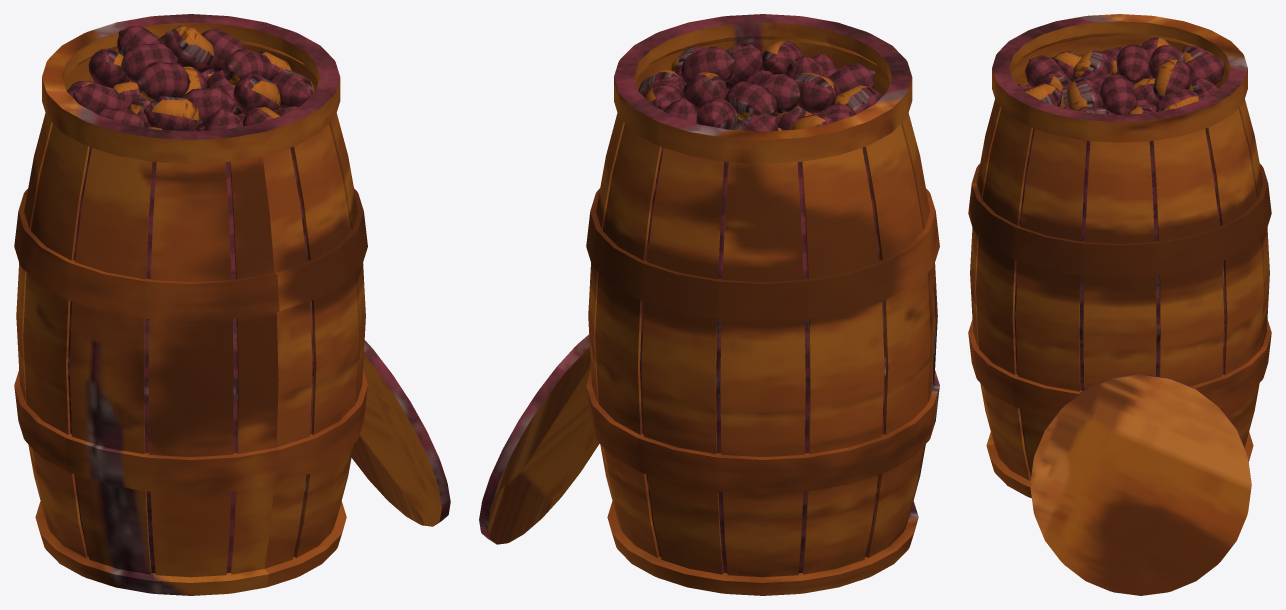
The model's file is fruit barrel_7.fbx.
3 renders of one model, left to right at view 1: azimuth 30°, elevation 25°; view 2: azimuth 150°, elevation 25°; view 3: azimuth 270°, elevation 25°, orthographic. The views are drawn at different scales.
Visible parts, largest first — view 1: Circle.012, Circle.015, Plane.1355, Plane.1352, Plane.1347, Plane.1341, Plane.1353, Plane.1351, Plane.1332, Plane.1354, Plane.1345, Plane.1349 (+3 smaller); view 2: Circle.012, Circle.015, Plane.1351, Plane.1353, Plane.1352, Plane.1355, Plane.1347, Plane.1341, Plane.1339, Plane.1323, Plane.1334, Plane.1343 (+2 smaller); view 3: Circle.012, Circle.015, Plane.1353, Plane.1347, Plane.1355, Plane.1341, Plane.1339, Plane.1352, Plane.1334, Plane.1329, Plane.1351, Plane.1323 (+3 smaller).
Part boxes in pixels (x1=…): Circle.012: x1=14, y1=14, x2=367, y2=595; Circle.015: x1=351, y1=340, x2=450, y2=526; Plane.1355: x1=137, y1=62, x2=190, y2=100; Plane.1352: x1=143, y1=96, x2=202, y2=130; Plane.1347: x1=164, y1=25, x2=214, y2=72; Plane.1341: x1=233, y1=74, x2=280, y2=112; Plane.1353: x1=223, y1=48, x2=271, y2=87; Plane.1351: x1=119, y1=43, x2=178, y2=83; Plane.1332: x1=269, y1=70, x2=314, y2=108; Plane.1354: x1=88, y1=48, x2=129, y2=87; Plane.1345: x1=73, y1=82, x2=124, y2=113; Plane.1349: x1=182, y1=87, x2=235, y2=128; Circle.012: x1=586, y1=14, x2=939, y2=595; Circle.015: x1=479, y1=334, x2=599, y2=544; Plane.1351: x1=726, y1=81, x2=776, y2=120; Plane.1353: x1=680, y1=46, x2=734, y2=84; Plane.1352: x1=794, y1=72, x2=836, y2=112; Plane.1355: x1=752, y1=74, x2=800, y2=114; Plane.1347: x1=681, y1=72, x2=726, y2=111; Plane.1341: x1=725, y1=43, x2=762, y2=89; Plane.1339: x1=696, y1=98, x2=737, y2=129; Plane.1323: x1=762, y1=40, x2=802, y2=74; Plane.1334: x1=827, y1=63, x2=875, y2=95; Plane.1343: x1=834, y1=85, x2=881, y2=114; Circle.012: x1=968, y1=14, x2=1271, y2=498; Circle.015: x1=1030, y1=374, x2=1251, y2=595; Plane.1353: x1=1099, y1=74, x2=1136, y2=114; Plane.1347: x1=1153, y1=58, x2=1190, y2=100; Plane.1355: x1=1116, y1=44, x2=1150, y2=84; Plane.1341: x1=1067, y1=76, x2=1103, y2=110; Plane.1339: x1=1185, y1=53, x2=1224, y2=88; Plane.1352: x1=1073, y1=50, x2=1112, y2=80; Plane.1334: x1=1024, y1=55, x2=1063, y2=86; Plane.1329: x1=1156, y1=88, x2=1202, y2=111; Plane.1351: x1=1148, y1=45, x2=1185, y2=78; Plane.1323: x1=1023, y1=83, x2=1062, y2=106.
Bounding box in the file's own units: 45.26 × 58.32 × 35.65.
